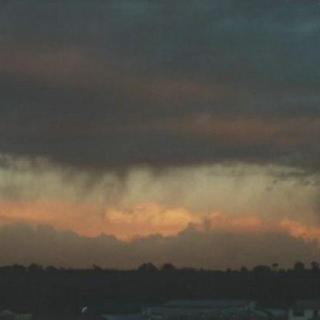Stratocumulus: (0, 0, 320, 278)
